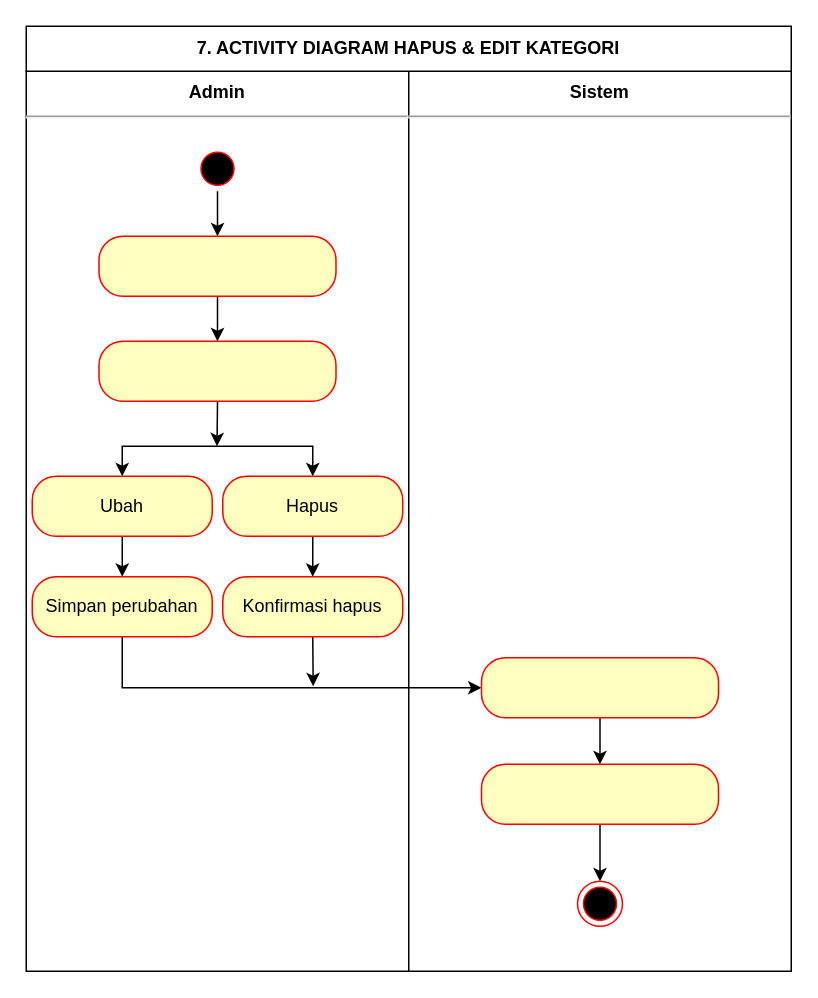
Some shapes in this 818 by 998 pixel diagram are drawn without their labels. Here are the shapes that lost their labels. From the top down, the centre of each, then its label:
At (x=217, y=265): "Pilih menu kategori".
At (x=217, y=370): "Pilih salah satu aksi pada salah satu kategori".
At (x=599, y=687): "Perbarui data di database".
At (x=599, y=793): "Tampilkan halaman daftar kategori buku".
